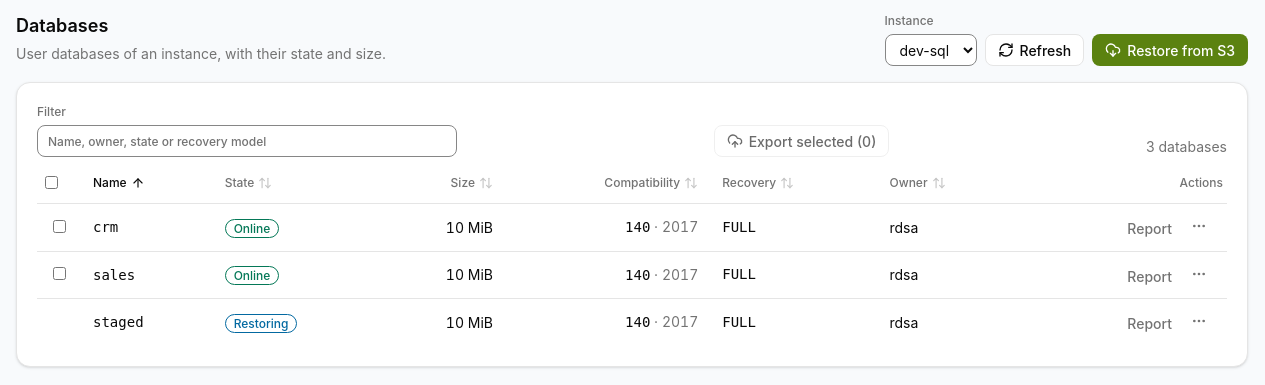
Scenario: DatabasesPage export selection › selects and clears all the shown databases at once
The image size is (1265, 385).
Click the checkbox named "Select all shown databases" at (52, 182), box 45,176 -> 58,188
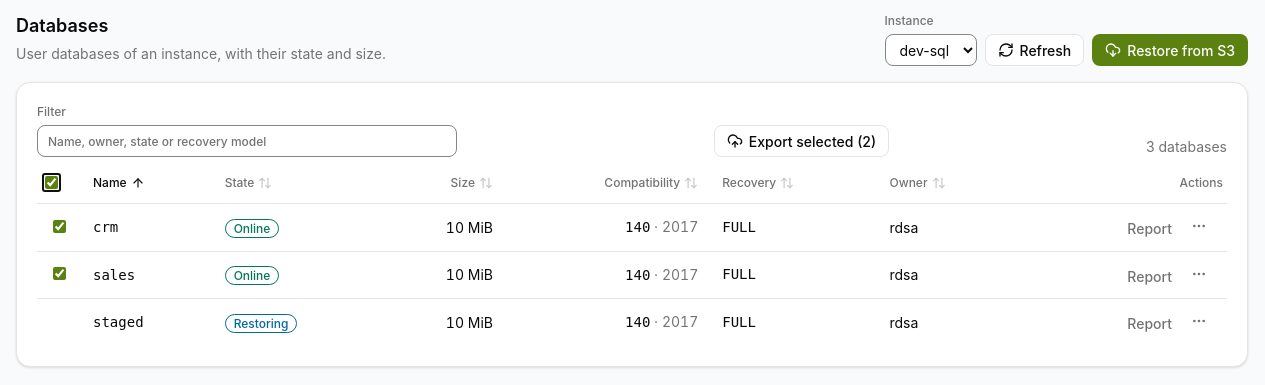
Result: the button "Export selected (2)" is enabled at 714,125 -> 889,157
Click the checkbox named "Select crm" at (60, 226), box 53,220 -> 66,233
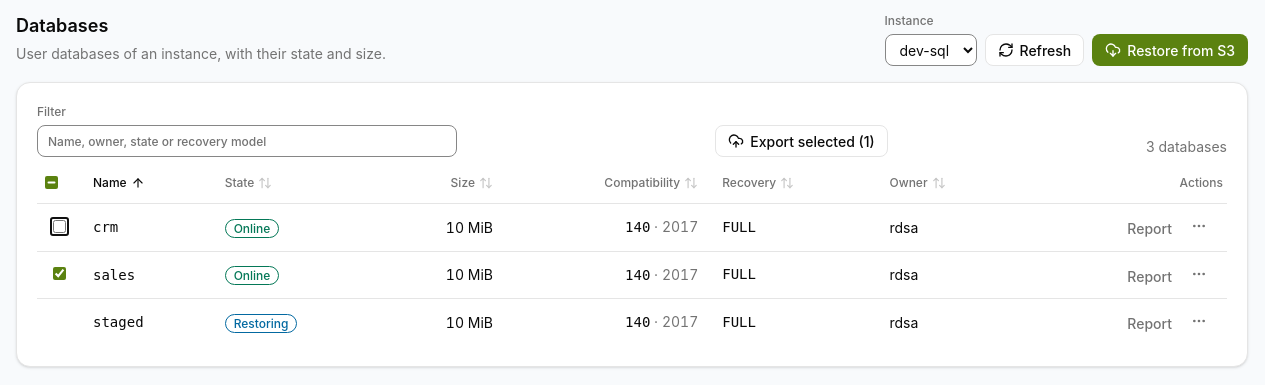
Result: the checkbox named "Select all shown databases" is not checked
Click the checkbox named "Select all shown databases" at (52, 182), box 45,176 -> 58,188
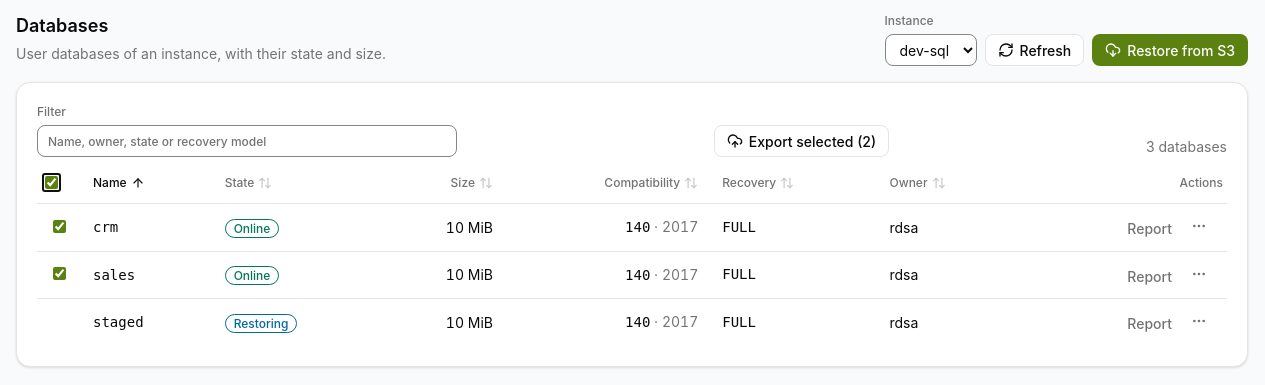
Click the checkbox named "Select all shown databases" at (52, 182), box 45,176 -> 58,188
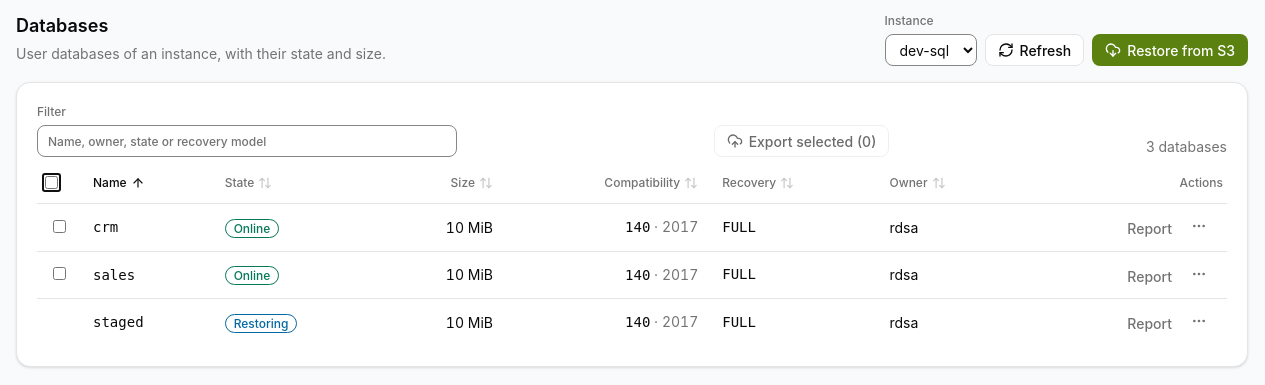
Result: the button "Export selected (0)" is disabled at 714,125 -> 889,157
